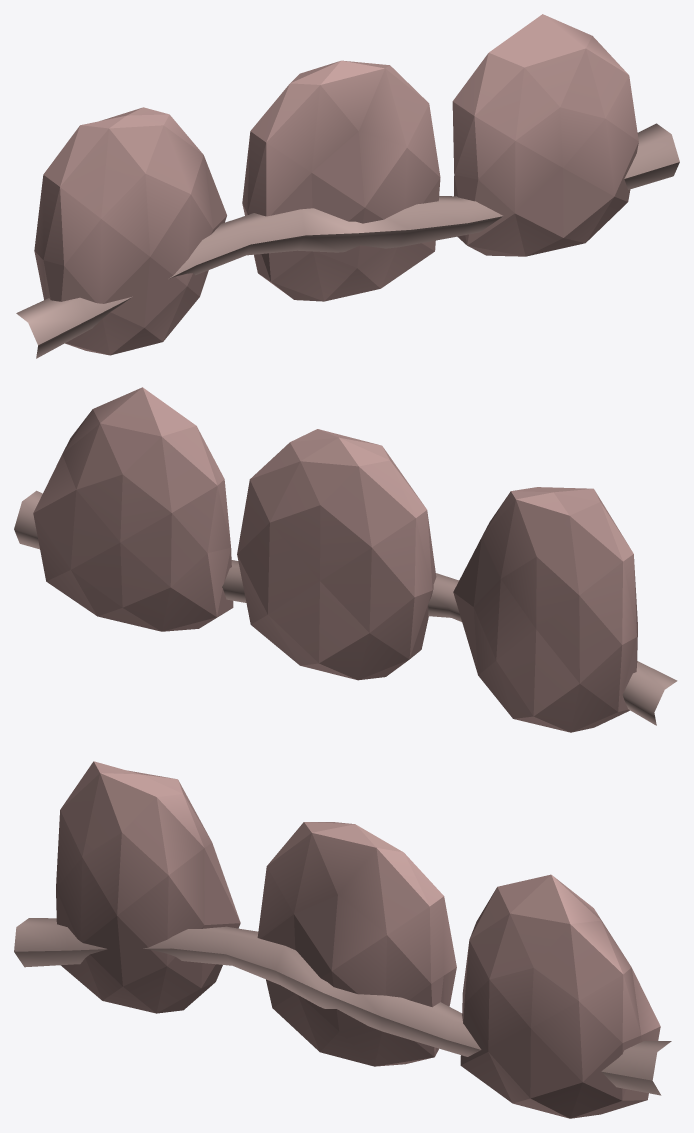
File: root-footing.glb
The picture shows the model from 3 angles, top to bottom: view 1: azimuth 30°, elevation 25°; view 2: azimuth 150°, elevation 25°; view 3: azimuth 330°, elevation 25°; orthographic projection.
Parts seen in each view (by area): view 1: body; view 2: body; view 3: body.
Boxes of the visible parts, x1,y1,x2,y2 form: body: (16, 14, 679, 358); body: (14, 387, 677, 732); body: (14, 761, 671, 1118).
Size of what is drawn, in the model's own units: 0.9485 by 0.3201 by 0.1116.
